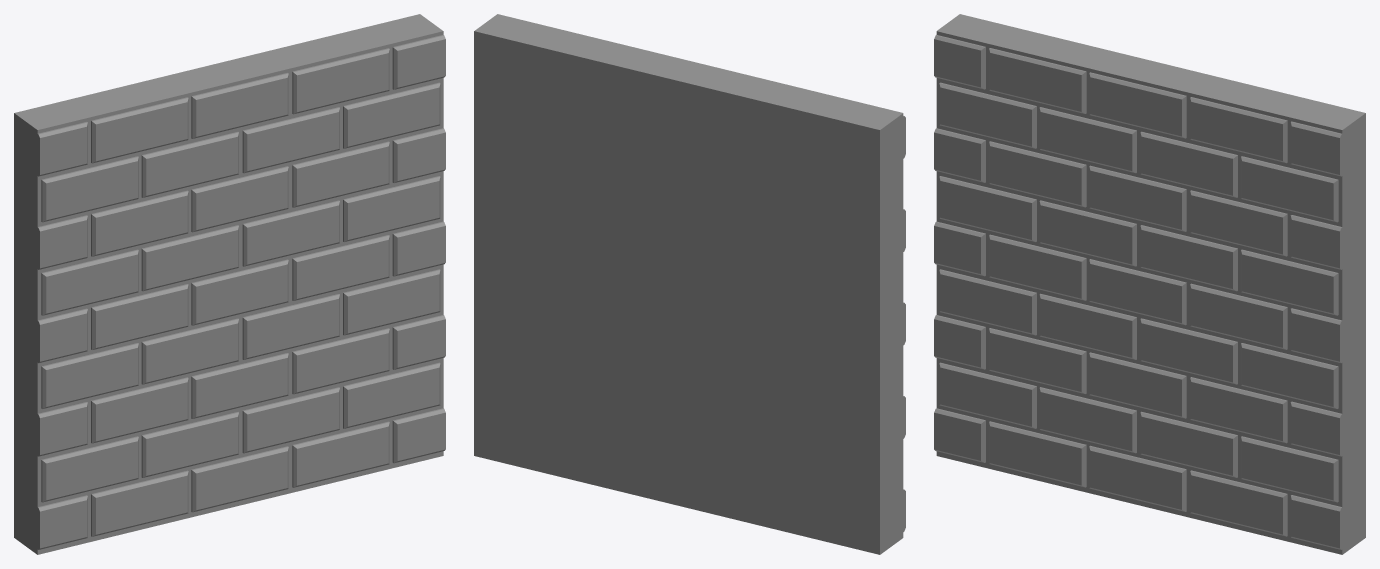
Rendered from Assets.fbx_BrickWall.fbx.
3 views of the same model, side by side, from view 1: azimuth 30°, elevation 25°; view 2: azimuth 150°, elevation 25°; view 3: azimuth 330°, elevation 25° (orthographic).
Parts seen in each view (by area): view 1: BrickWall; view 2: BrickWall; view 3: BrickWall.
Boxes of the visible parts, left/top/right/bottom form: BrickWall: left=14, top=14, right=445, bottom=554; BrickWall: left=474, top=14, right=905, bottom=554; BrickWall: left=934, top=14, right=1365, bottom=554.
Size of the model in its own units: 200 by 200 by 22.03.
